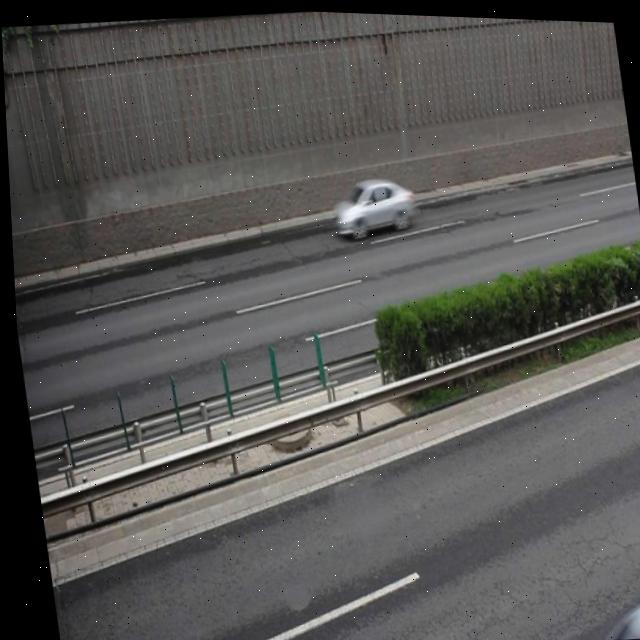car: (325, 168, 415, 237), (586, 585, 640, 639)
